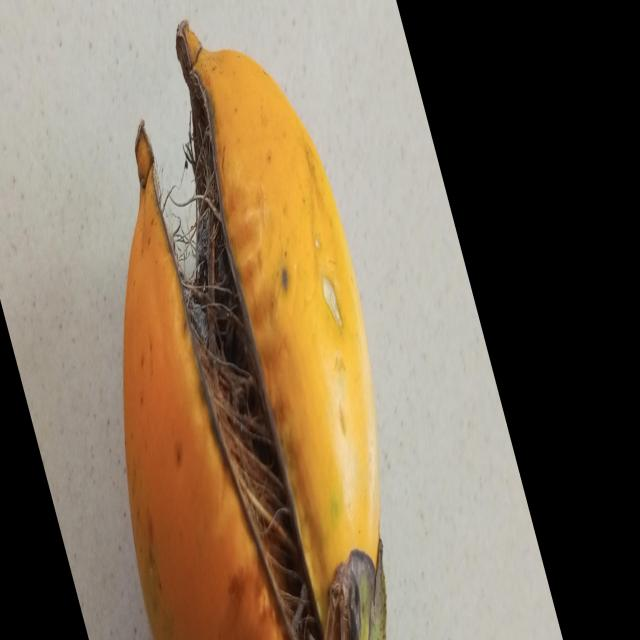damaged: (124, 21, 386, 640)
